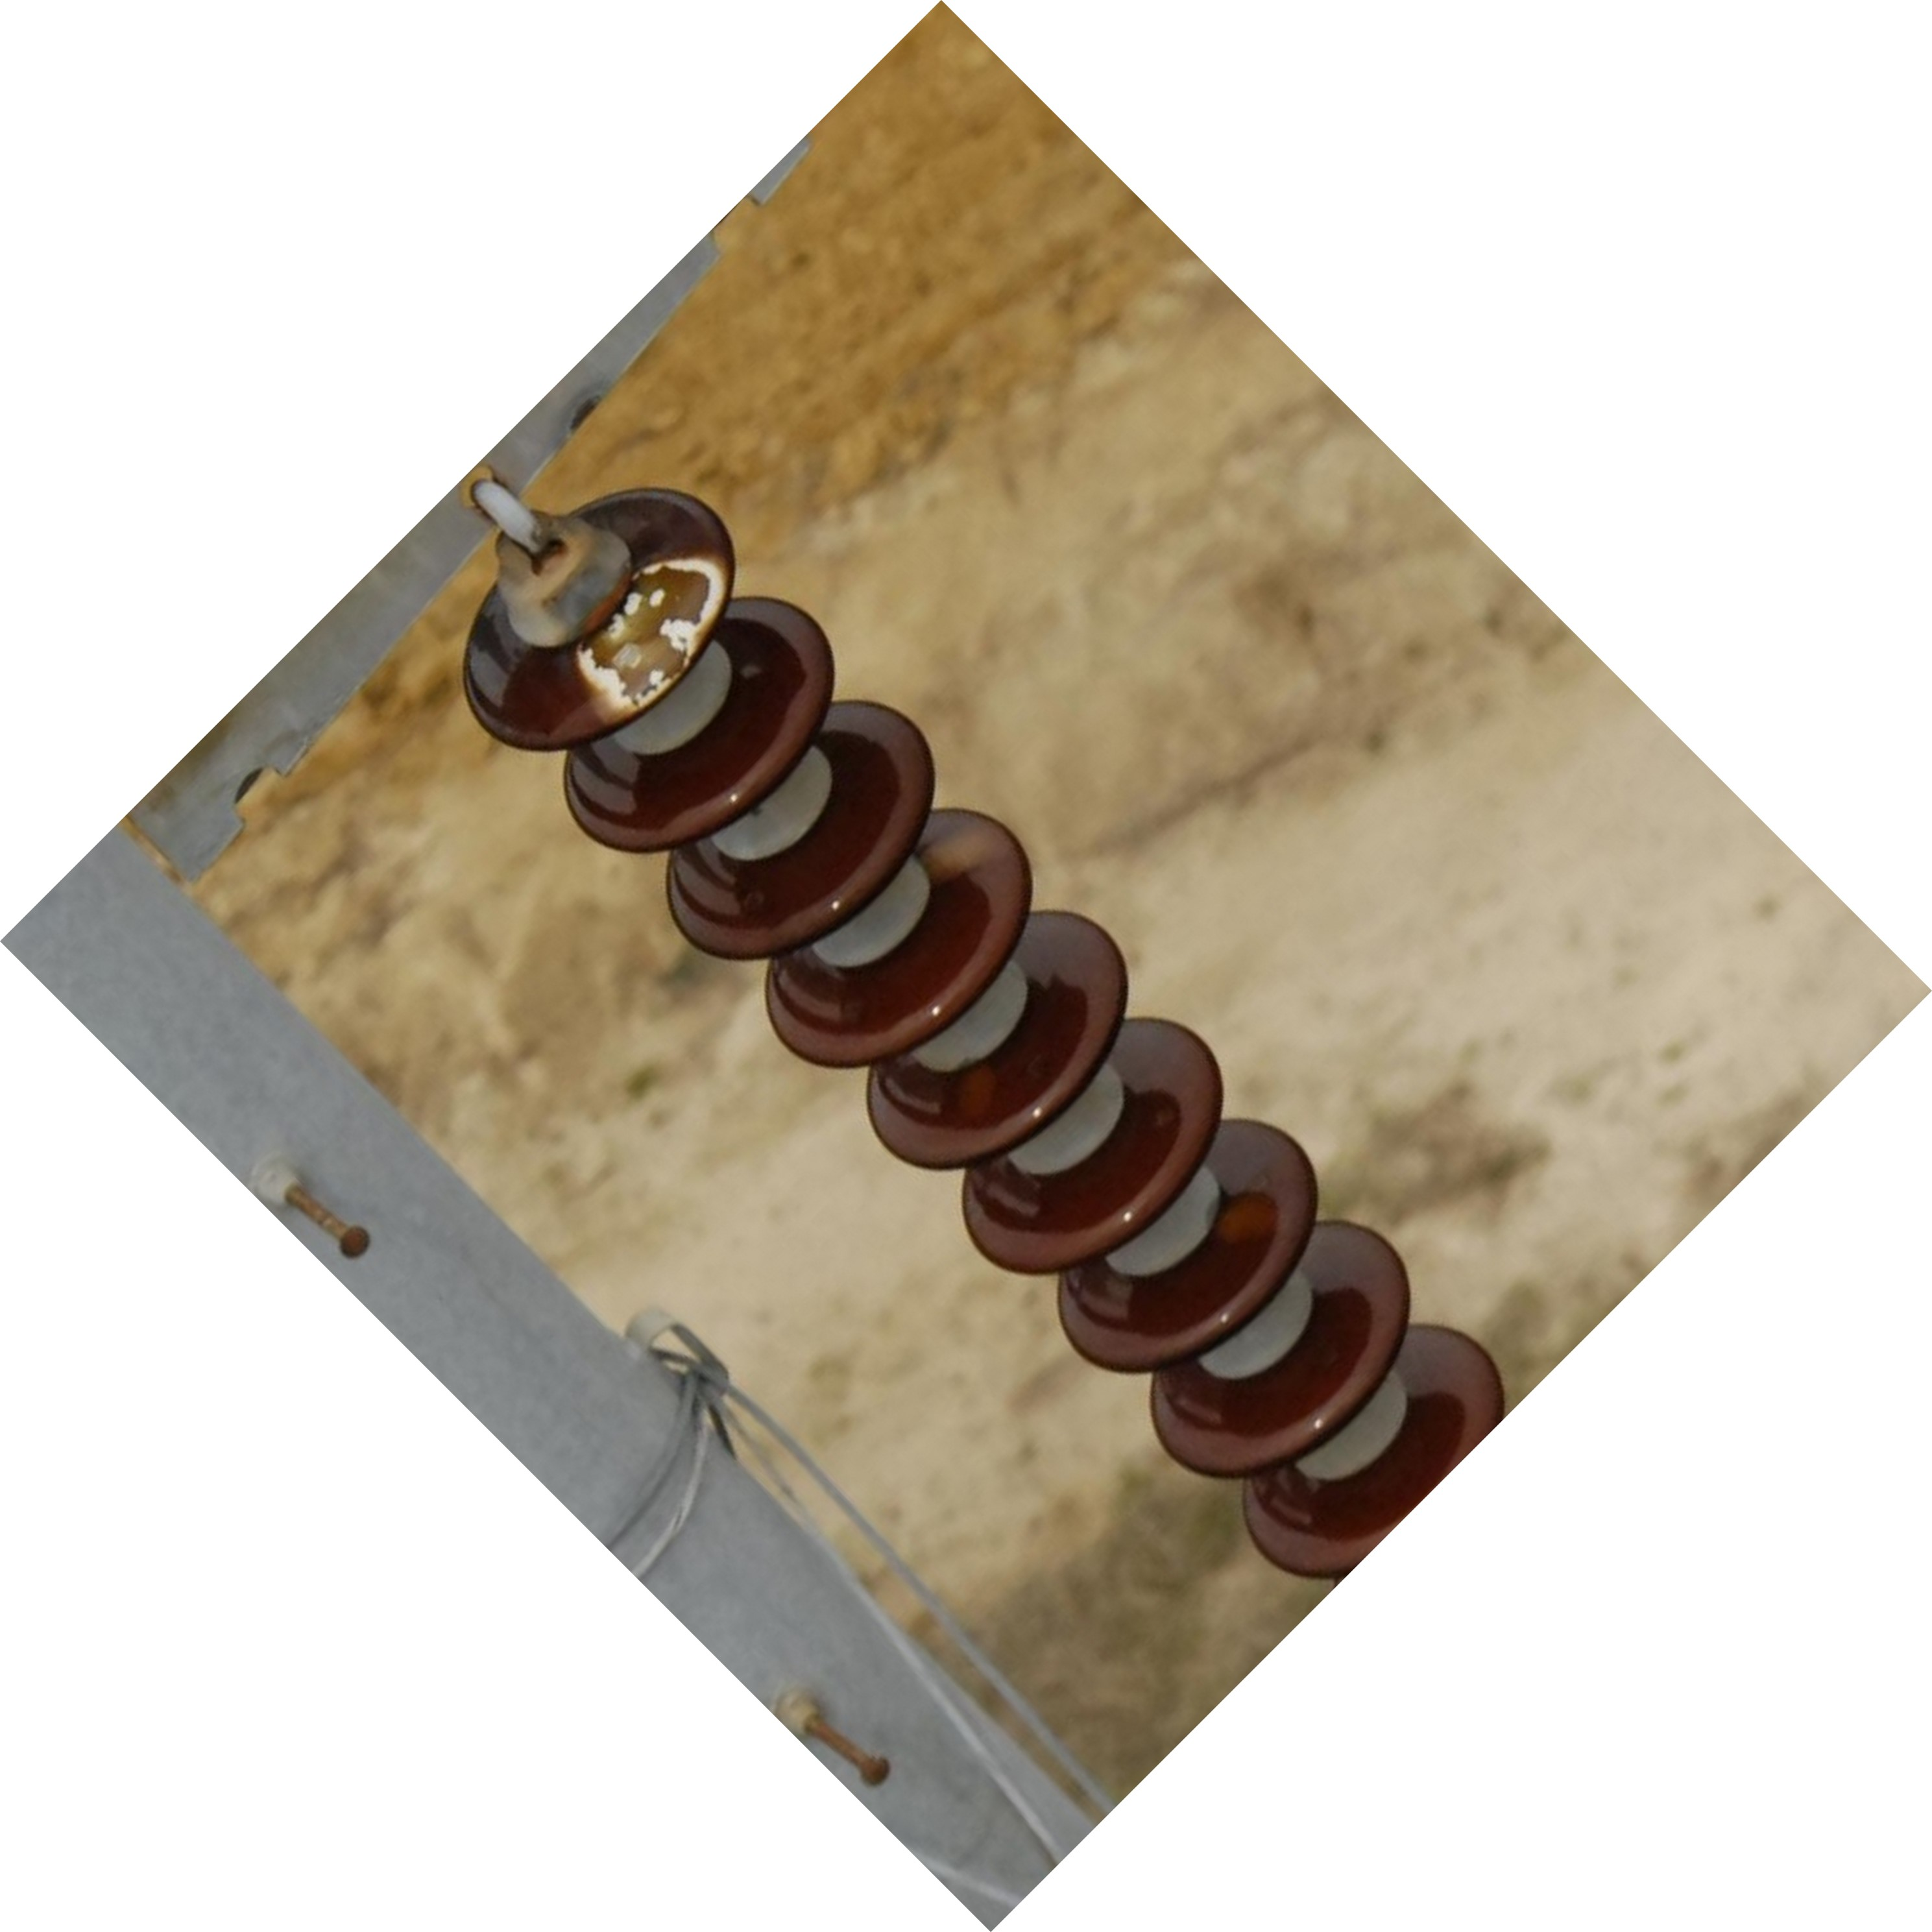Insulator flashover: (426, 472, 766, 764)
